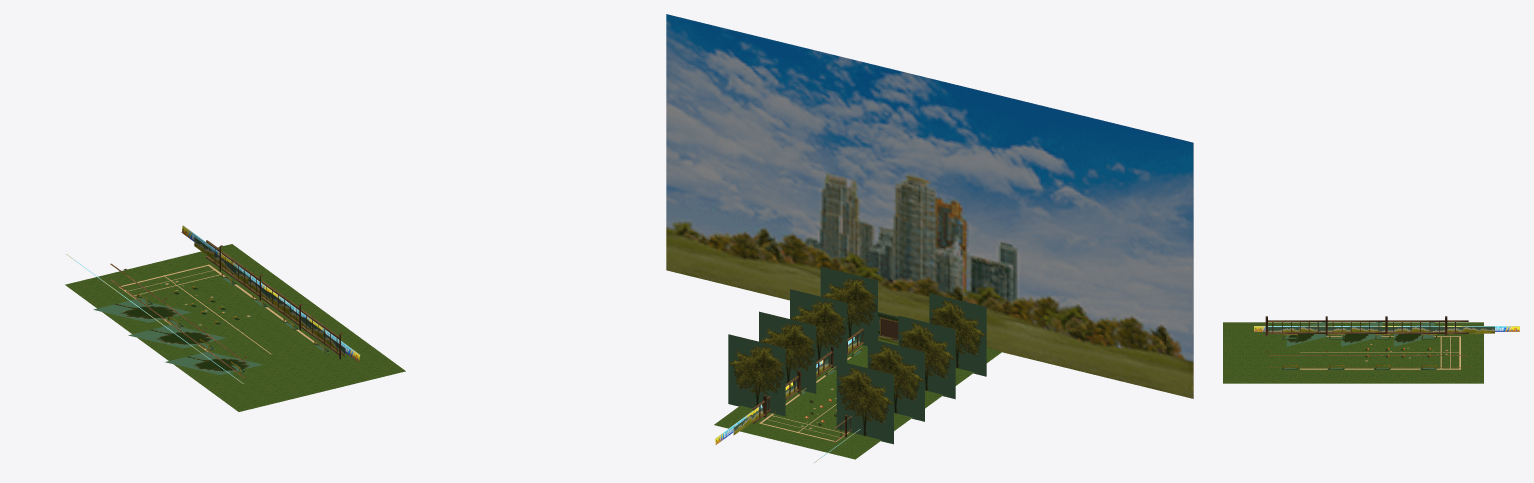
Rendered from EnvironmentD.glb.
The picture shows the model from 3 angles, left to right: view 1: azimuth 30°, elevation 25°; view 2: azimuth 150°, elevation 25°; view 3: azimuth 270°, elevation 25°; orthographic projection. The views are drawn at different scales.
Parts seen in each view (by area): view 1: EnvironmentD_High; view 2: EnvironmentD_High; view 3: EnvironmentD_High.
Boxes of the visible parts, box(x1,y1,x2,y2) form: EnvironmentD_High: box(65, 225, 405, 411); EnvironmentD_High: box(666, 14, 1193, 463); EnvironmentD_High: box(1223, 316, 1519, 383).
Size of the model in its own units: 118 by 54.92 by 65.24.
2 materials, 2 textured.
